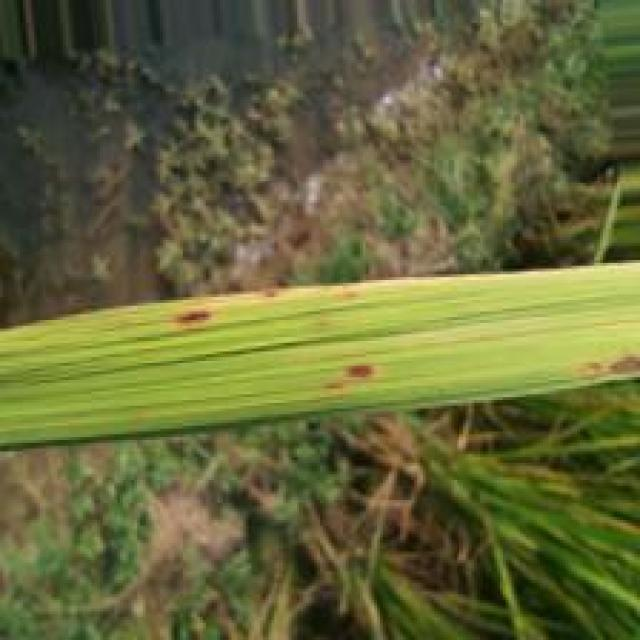Brown_Spot: (165, 302, 218, 334), (335, 360, 386, 382), (599, 352, 638, 380)
